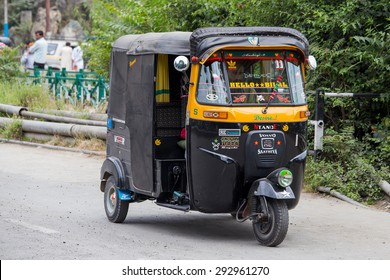threewheel: (98, 25, 317, 246)
